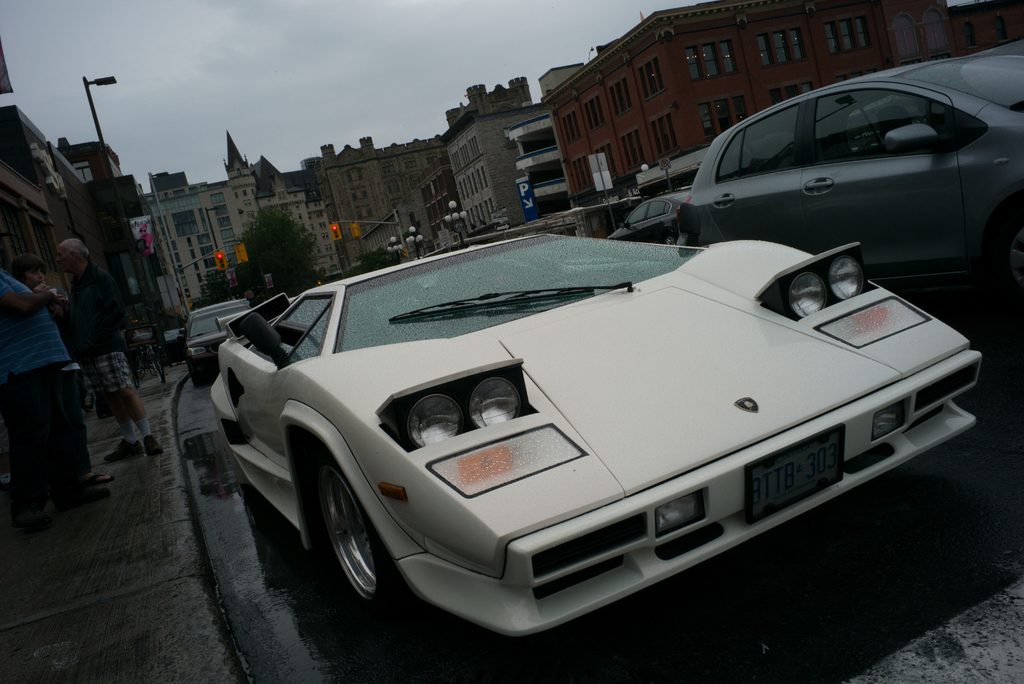Person: (0, 264, 111, 527), (54, 237, 162, 463), (9, 254, 114, 486)
